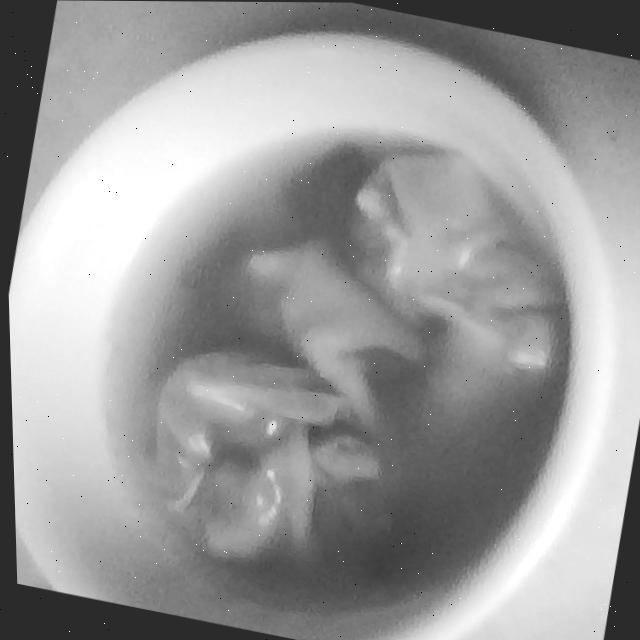汤锅炖物: (5, 52, 614, 640)
